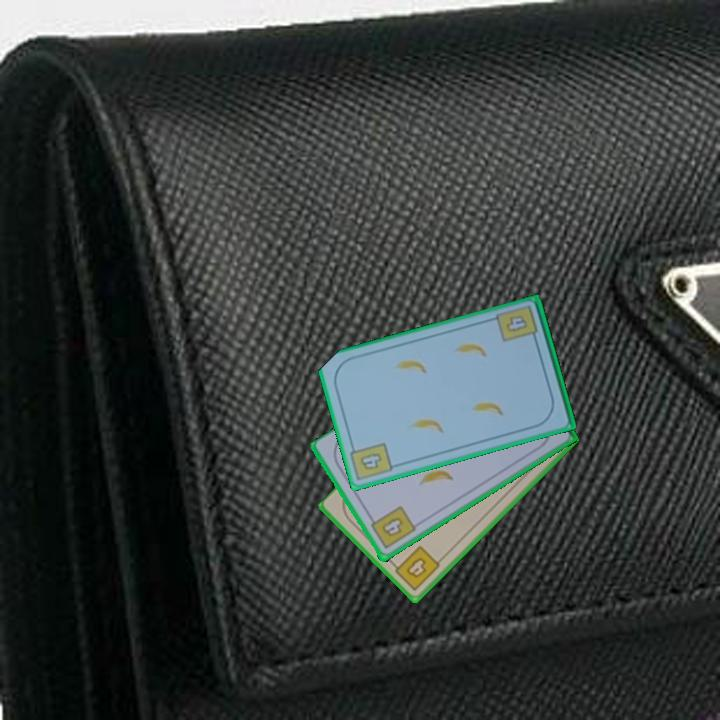4b: (388, 542, 443, 594), (365, 503, 418, 552), (347, 439, 396, 484), (502, 312, 530, 335)
